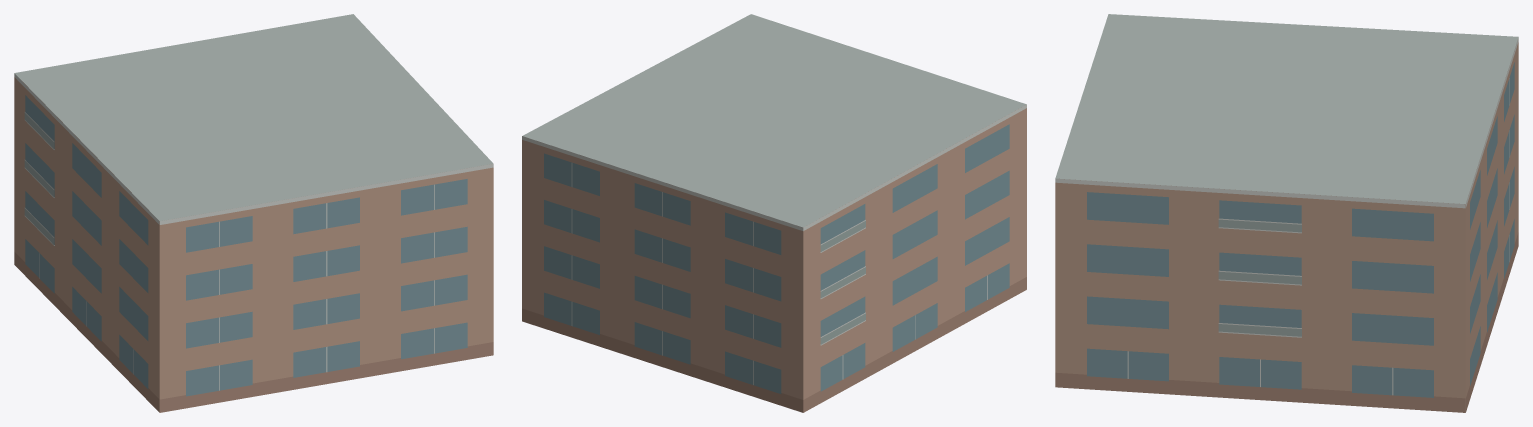
File: residential-3eb6f9c2-d364-4c43-9734-77ef0335c08e.glb
3 renders of one model, left to right at view 1: azimuth 30°, elevation 25°; view 2: azimuth 150°, elevation 25°; view 3: azimuth 270°, elevation 25°, orthographic. The views are drawn at different scales.
Visible parts, largest first — view 1: residential-3eb6f9c2-d364-4c43-9734-77ef0335c08e.tmp; view 2: residential-3eb6f9c2-d364-4c43-9734-77ef0335c08e.tmp; view 3: residential-3eb6f9c2-d364-4c43-9734-77ef0335c08e.tmp.
Part boxes in pixels (bbox=[...]): residential-3eb6f9c2-d364-4c43-9734-77ef0335c08e.tmp: bbox=[14, 14, 493, 412]; residential-3eb6f9c2-d364-4c43-9734-77ef0335c08e.tmp: bbox=[522, 14, 1026, 412]; residential-3eb6f9c2-d364-4c43-9734-77ef0335c08e.tmp: bbox=[1055, 14, 1518, 412].
Size of the model in its own units: 23.85 by 12.2 by 24.56.
